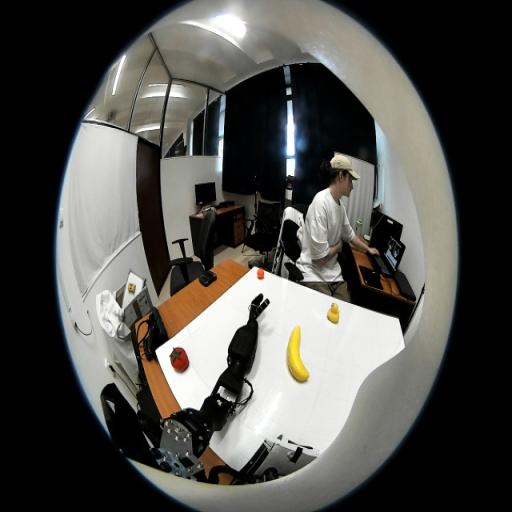Banana: (286, 325, 310, 381)
Duck: (327, 302, 340, 323)
LeftHand: (249, 308, 257, 320)
Orange: (257, 268, 264, 279)
Tomato: (170, 346, 189, 372)
